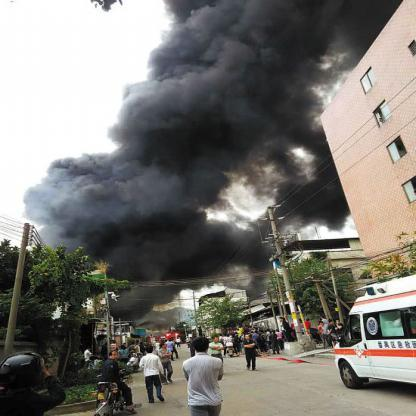smoke: (27, 158, 226, 234), (166, 3, 354, 72), (122, 78, 264, 154), (113, 232, 243, 274), (276, 168, 348, 229), (270, 76, 312, 155)
